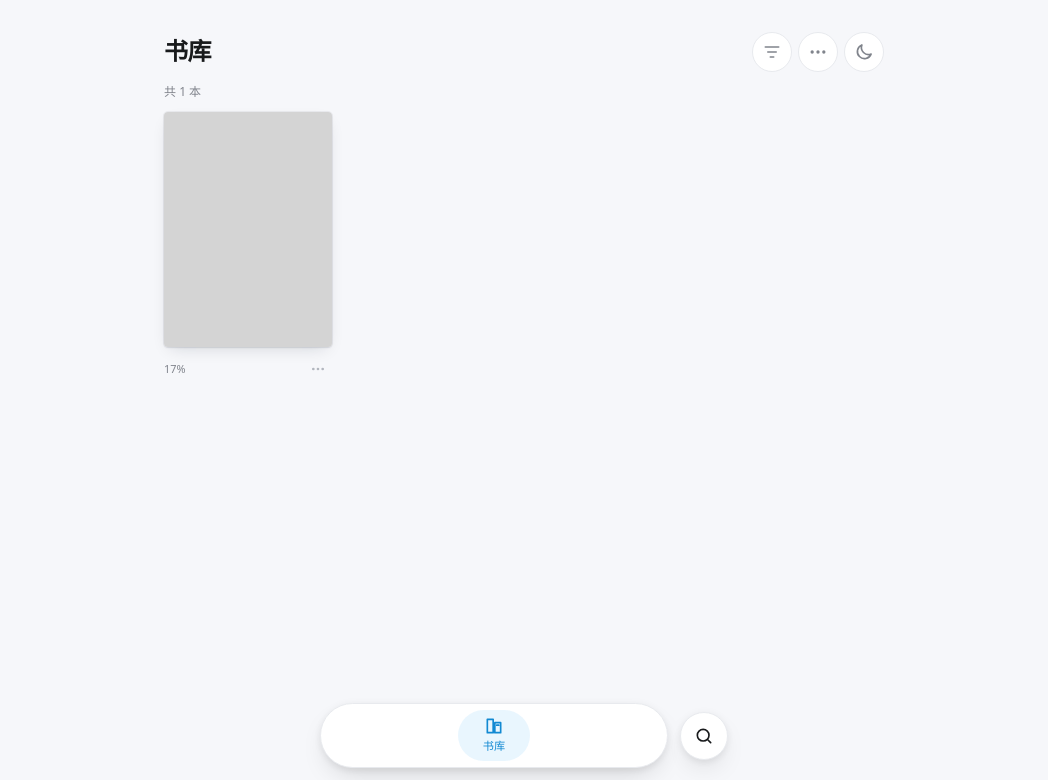
LibraryPage › 卡片"···"菜单:标记已读完 → 徽标更新
Expected: the text "17%" is shown, [164, 361, 186, 377]
Click the button named "Test Book 更多".
click(318, 369)  # box [304, 355, 332, 383]
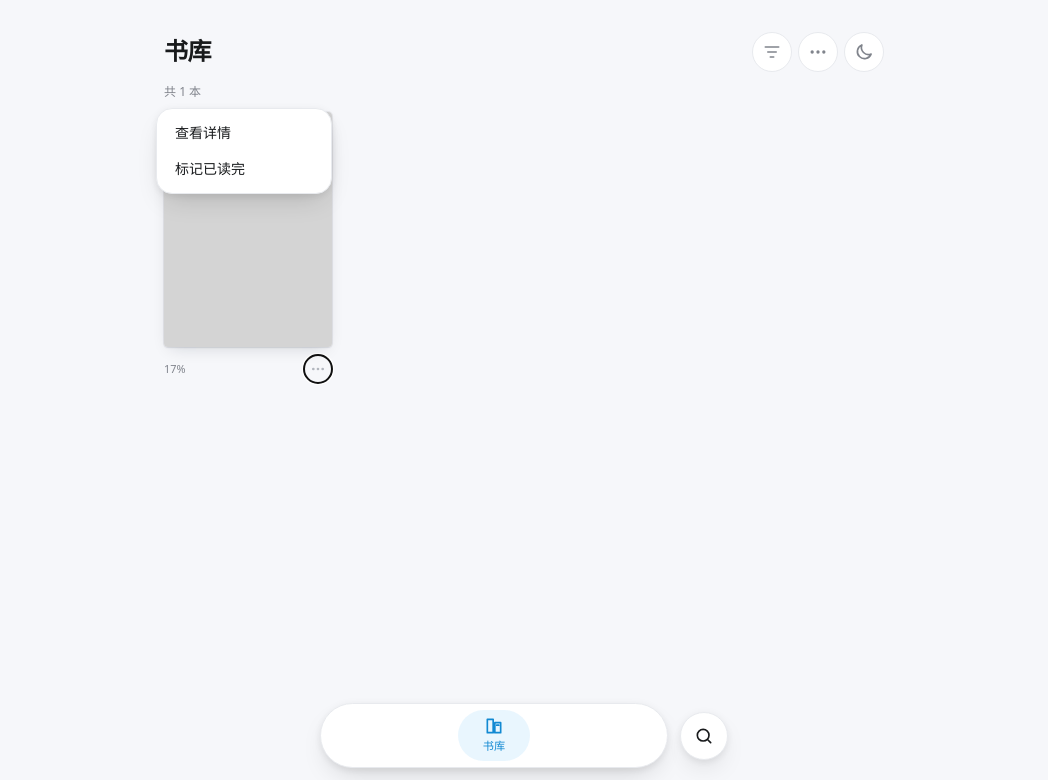
Click the button "标记已读完".
click(244, 169)  # box [163, 151, 325, 187]
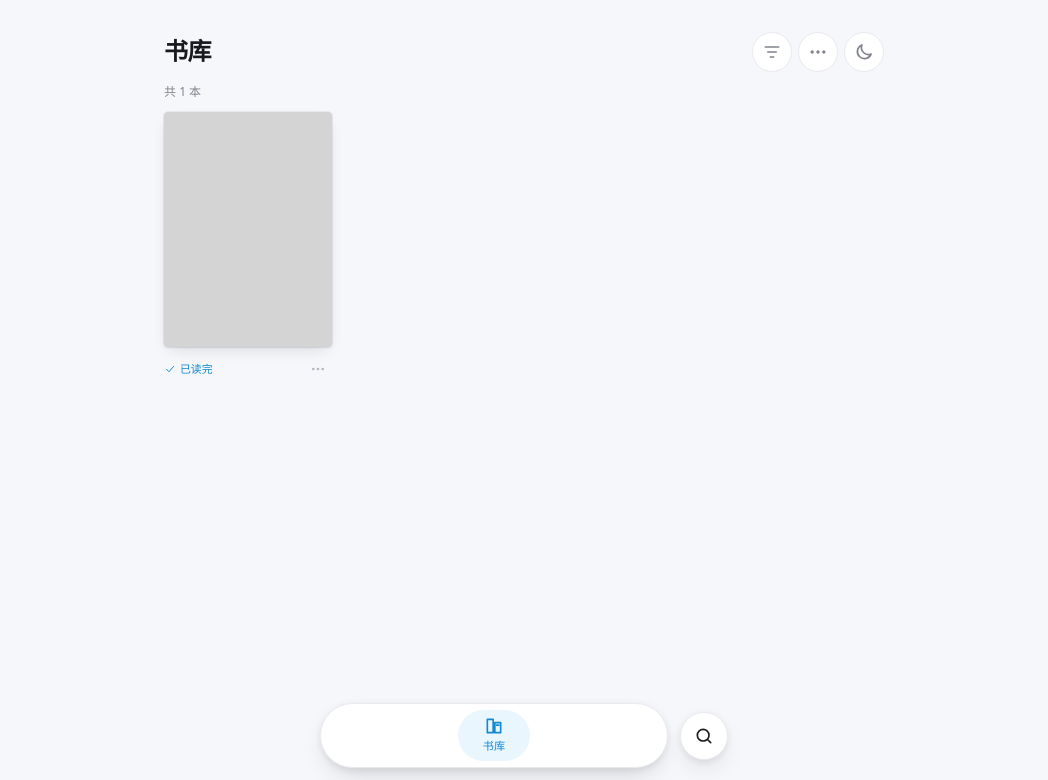
Now the text "已读完" is shown, box [164, 361, 213, 377]
